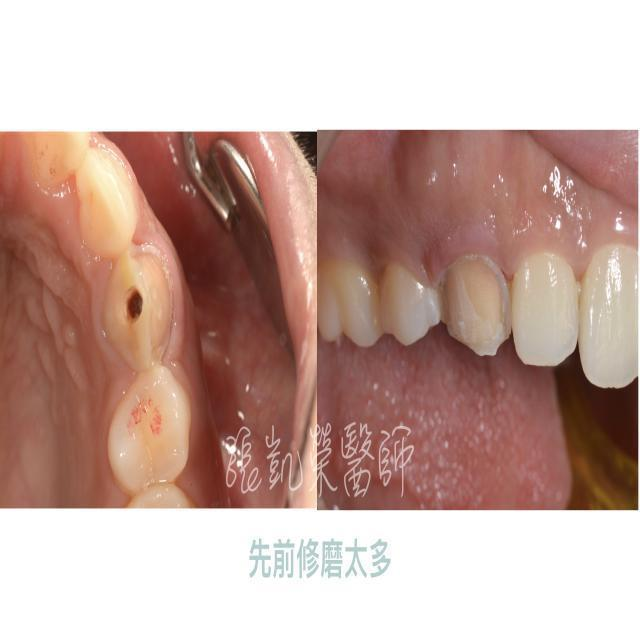decay: (131, 399, 162, 446), (122, 282, 145, 330), (50, 148, 67, 193)
